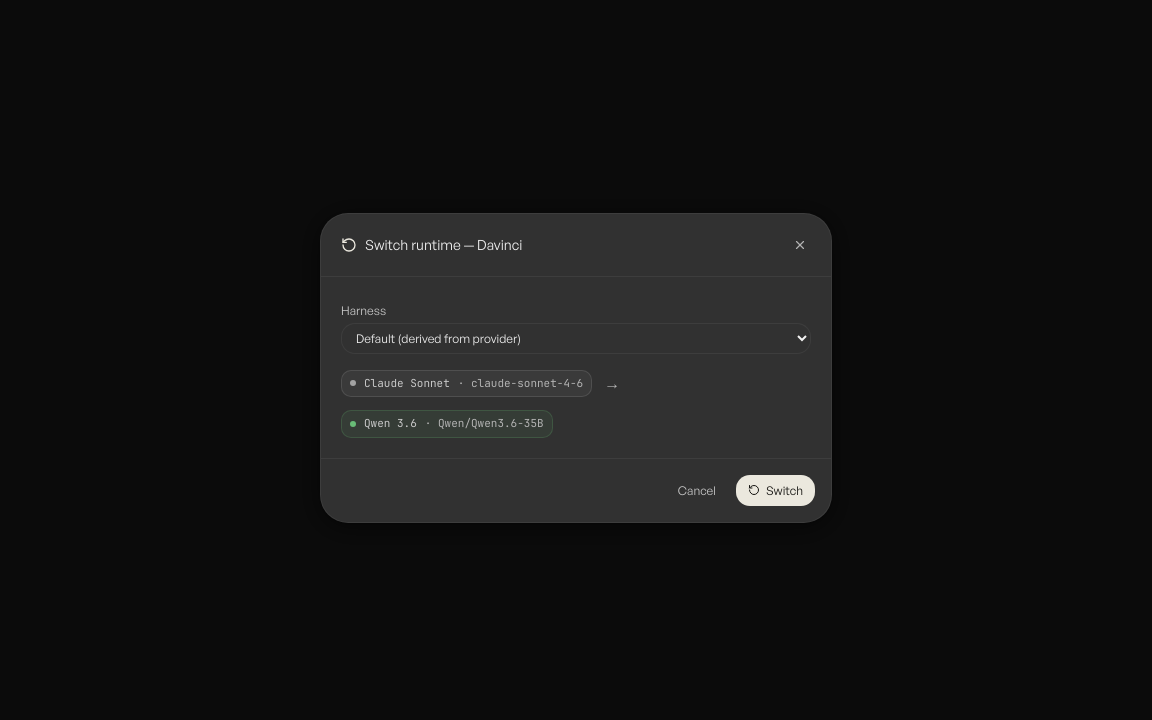
Test: RuntimeSwitchModal › zeigt einen 422-Fehler als Satz statt als rohes JSON
This screenshot has width=1152, height=720.
Expected: the 2nd text "Qwen 3.6" is shown, [364, 416, 417, 430]
Click the button "Switch" at (776, 490), box [736, 475, 815, 506]
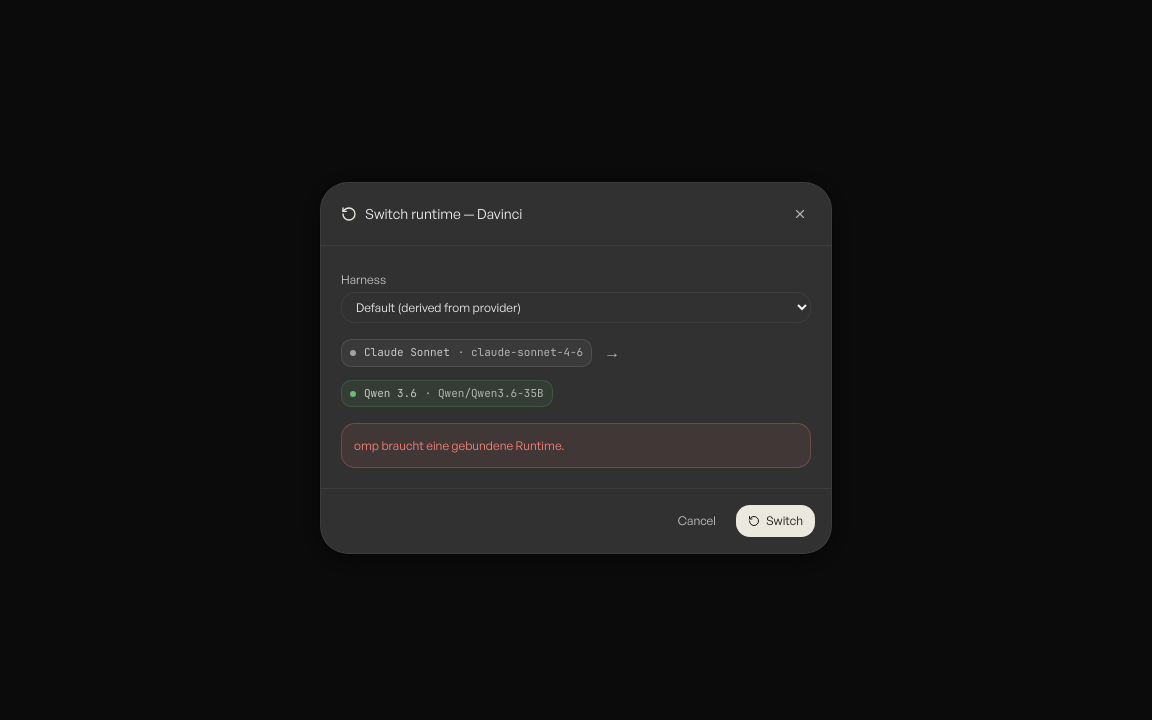
Expected: the text "omp braucht eine gebundene Runtime." is shown, [341, 423, 811, 468]
